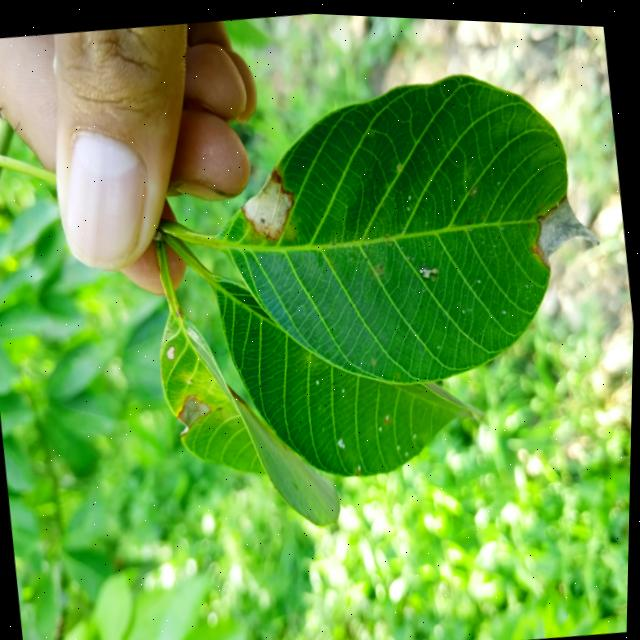Colletotrichum: (261, 214, 266, 219), (467, 214, 471, 218), (351, 298, 354, 302)
Leaf-Blight: (530, 186, 604, 265), (235, 159, 300, 242), (176, 388, 217, 434), (166, 342, 177, 357)
